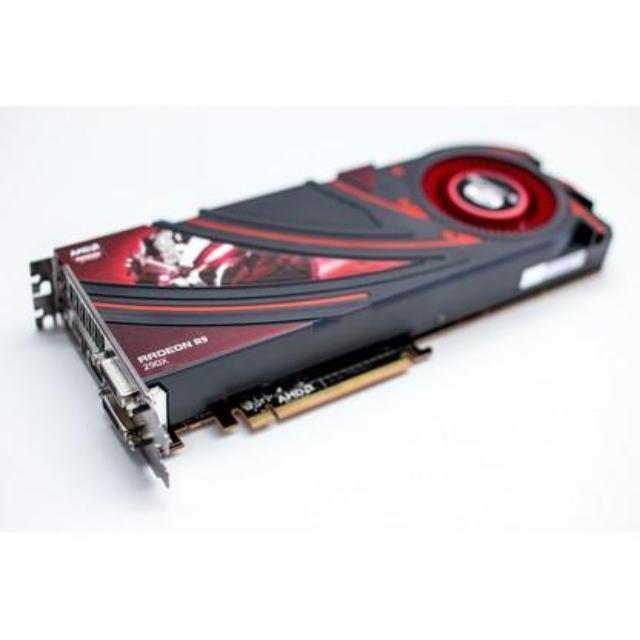GPU: (38, 130, 640, 472)
